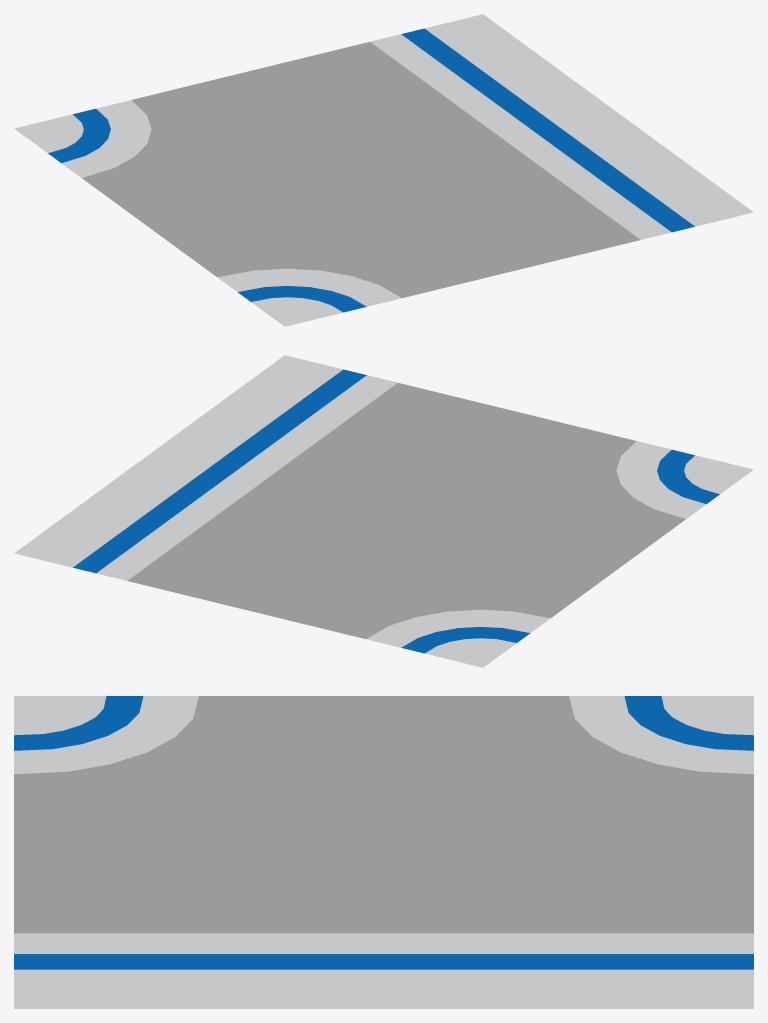
Rendered from Ceiling_type_A_034.012.fbx.
The picture shows the model from 3 angles, top to bottom: view 1: azimuth 30°, elevation 25°; view 2: azimuth 150°, elevation 25°; view 3: azimuth 270°, elevation 25°; orthographic projection. The views are drawn at different scales.
Visible parts, largest first — view 1: Ceiling_type_A_034.012; view 2: Ceiling_type_A_034.012; view 3: Ceiling_type_A_034.012.
Boxes of the visible parts, left/top/right/bottom form: Ceiling_type_A_034.012: left=14, top=14, right=753, bottom=326; Ceiling_type_A_034.012: left=14, top=355, right=753, bottom=667; Ceiling_type_A_034.012: left=14, top=696, right=753, bottom=1008.
Size of the model in its own units: 400 by 400 by 1.2.
